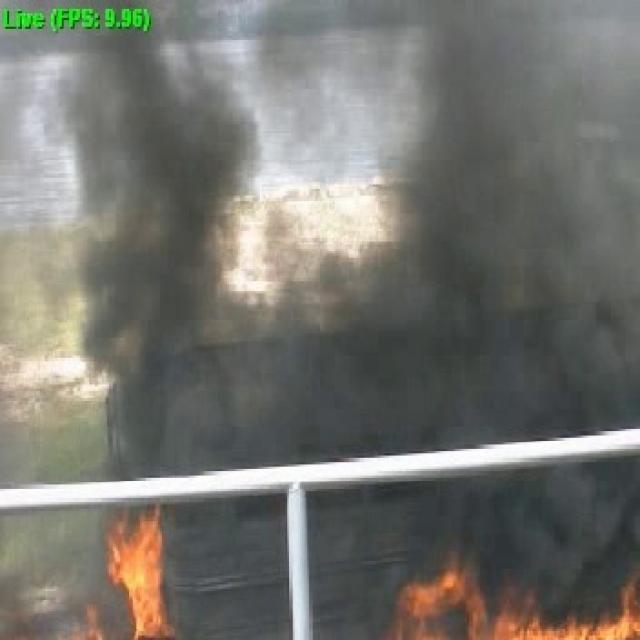fire: (118, 520, 163, 632)
smoke: (405, 62, 638, 567), (85, 77, 220, 486), (226, 342, 396, 631)
